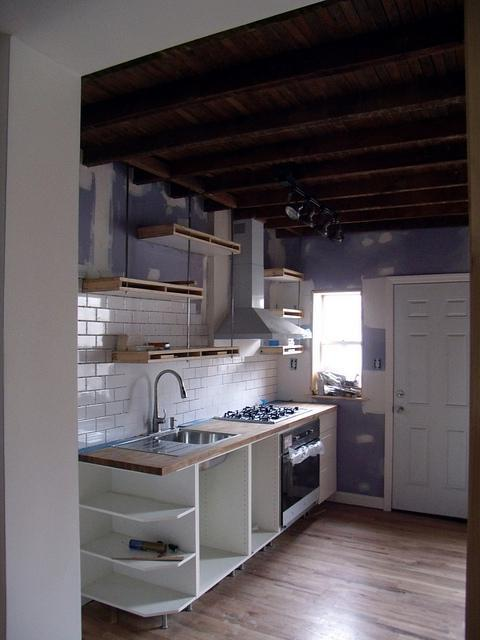Lavaplatos: (115, 365, 242, 461)
